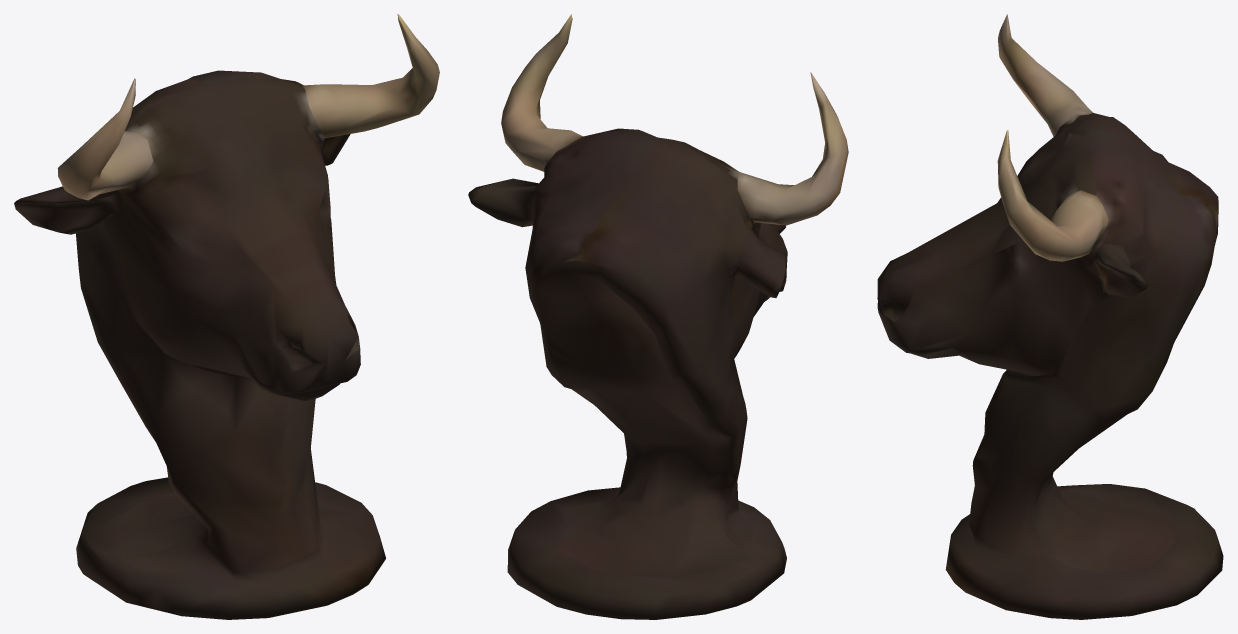
The model's file is design-bull-head.glb.
3 views of the same model, side by side, from view 1: azimuth 30°, elevation 25°; view 2: azimuth 150°, elevation 25°; view 3: azimuth 270°, elevation 25° (orthographic). The views are drawn at different scales.
Visible parts, largest first — view 1: bull_head; view 2: bull_head; view 3: bull_head.
Part boxes in pixels (x1,y1,x2,y2): bull_head: (14, 14, 439, 619); bull_head: (468, 14, 848, 619); bull_head: (877, 14, 1223, 619).
Bounding box in the file's own units: 0.306 × 0.4325 × 0.2789.
1 material, 1 textured.
